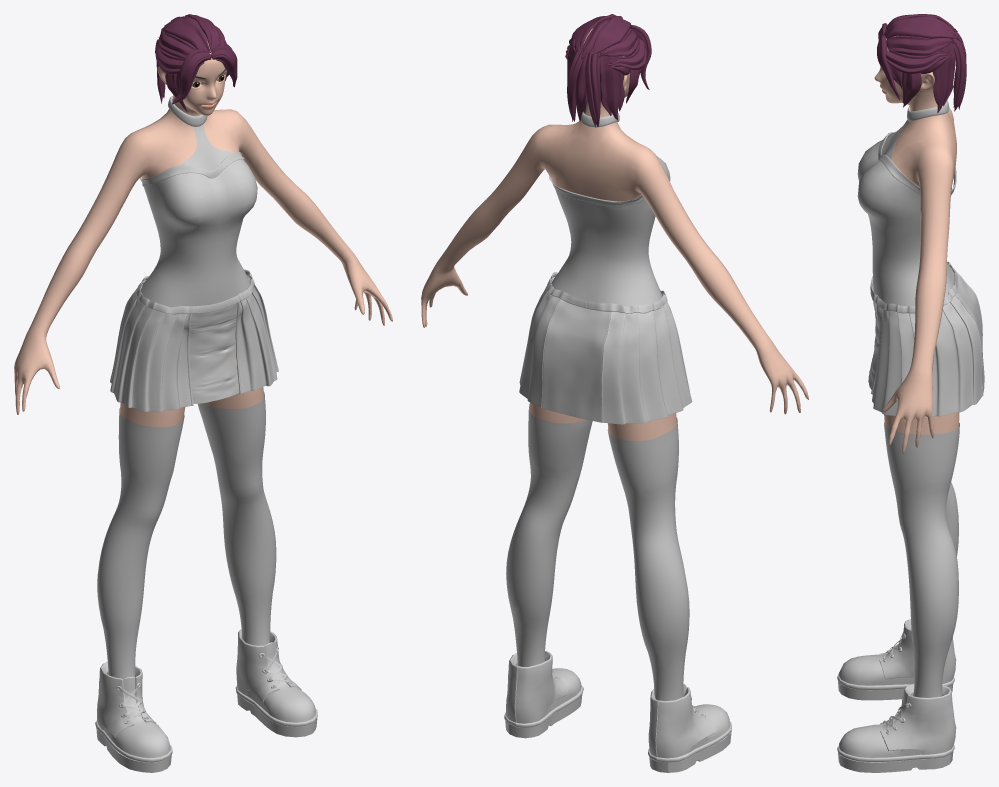
The model's file is Female.fbx.
3 views of the same model, side by side, from view 1: azimuth 30°, elevation 25°; view 2: azimuth 150°, elevation 25°; view 3: azimuth 270°, elevation 25° (orthographic). The views are drawn at different scales.
Visible parts, largest first — view 1: polySurface5, polySurface4, g:polySurface1; view 2: polySurface5, polySurface4, g:polySurface1; view 3: polySurface5, polySurface4, g:polySurface1.
Part boxes in pixels (x1,y1,x2,y2): polySurface5: (95,96,317,772); polySurface4: (14,38,392,427); g:polySurface1: (155,14,237,112); polySurface5: (504,112,731,772); polySurface4: (421,28,808,440); g:polySurface1: (565,14,651,127); polySurface5: (837,100,984,772); polySurface4: (862,35,959,453); g:polySurface1: (877,14,966,112).
Bounding box in the file's own units: 141 × 257 × 48.38.
